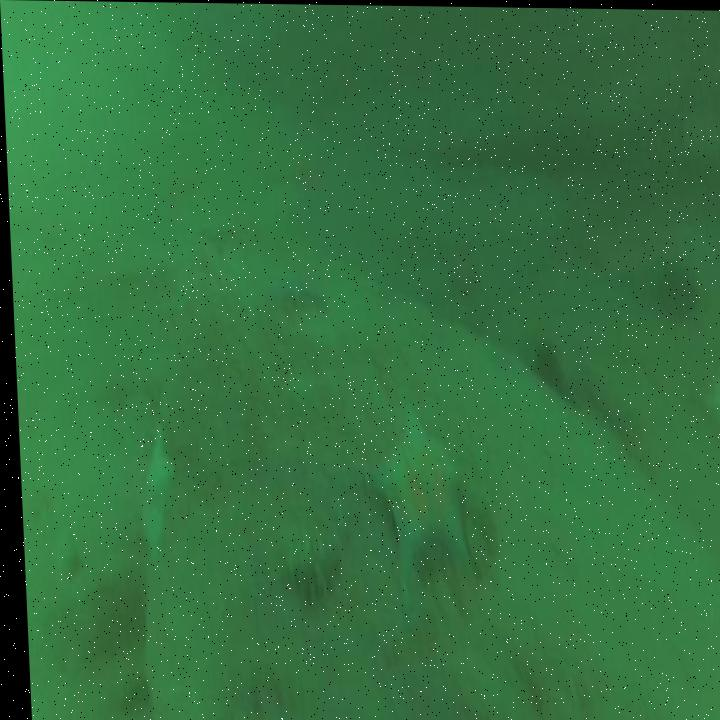echinus: (646, 246, 699, 334), (524, 331, 565, 396)
holothurian: (277, 529, 342, 604)
starfish: (361, 392, 479, 598), (266, 264, 325, 318)
